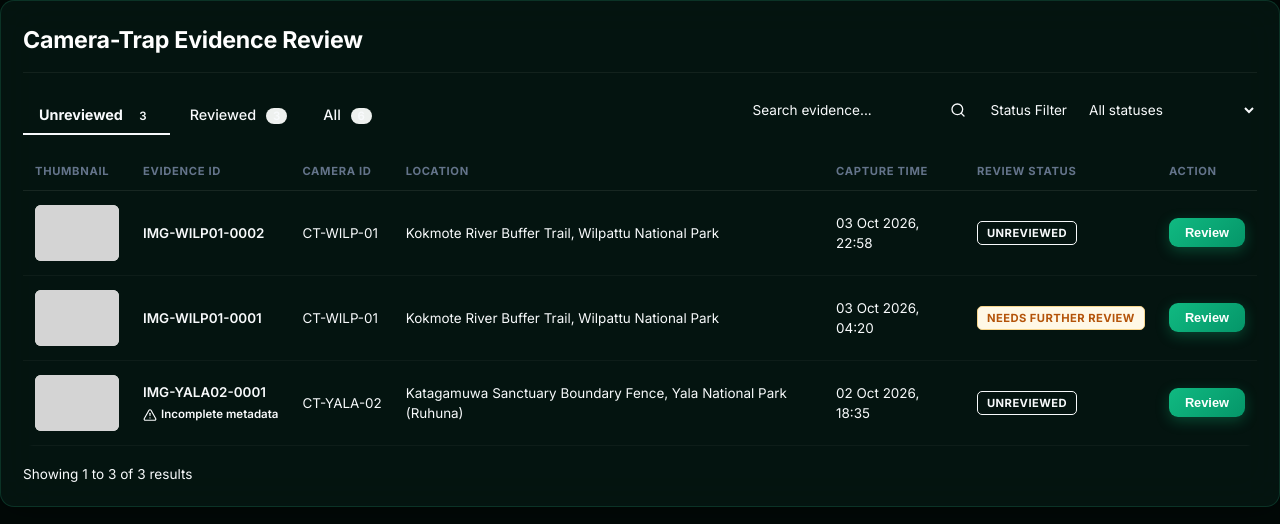
EvidenceReviewQueue › search and status filter work together
Select "Unreviewed" in the dropdown labelled "Status Filter". click: (1166, 110)
box: [1075,93,1257,127]
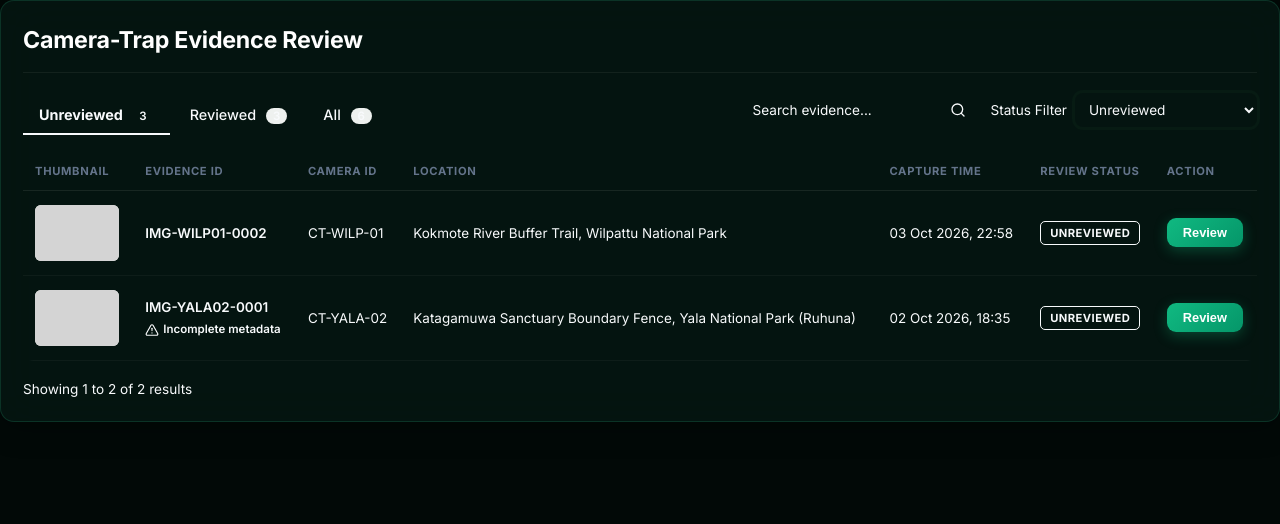
Type "katagamuwa" into the search field labelled "Search evidence". click: (846, 110)
box: [750,99,942,121]
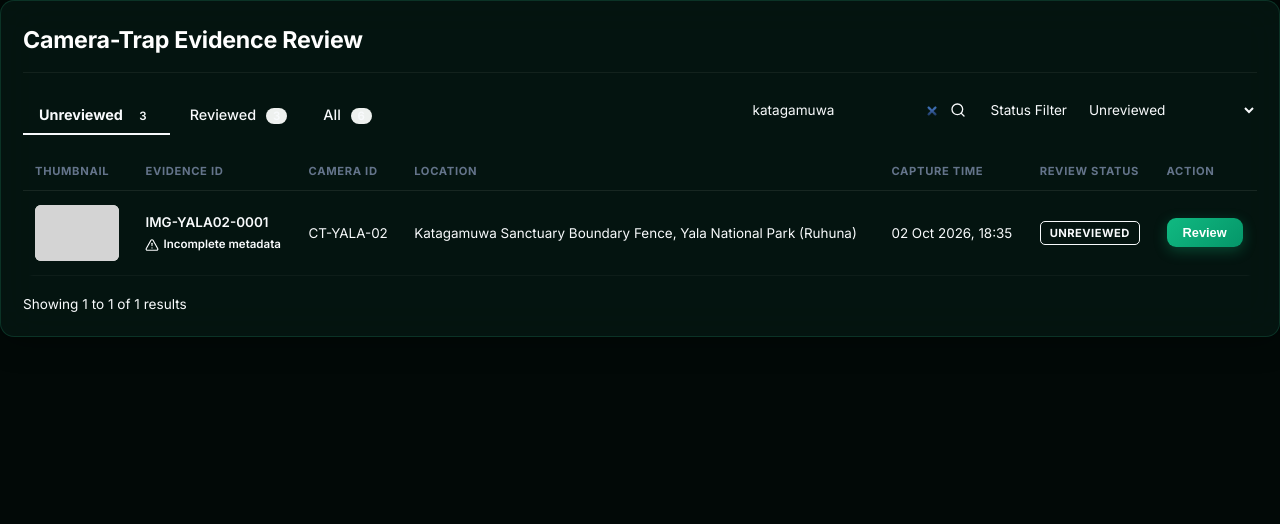
Expected: the text "Showing 1 to 1 of 1 results" is shown, [23,294,187,314]
